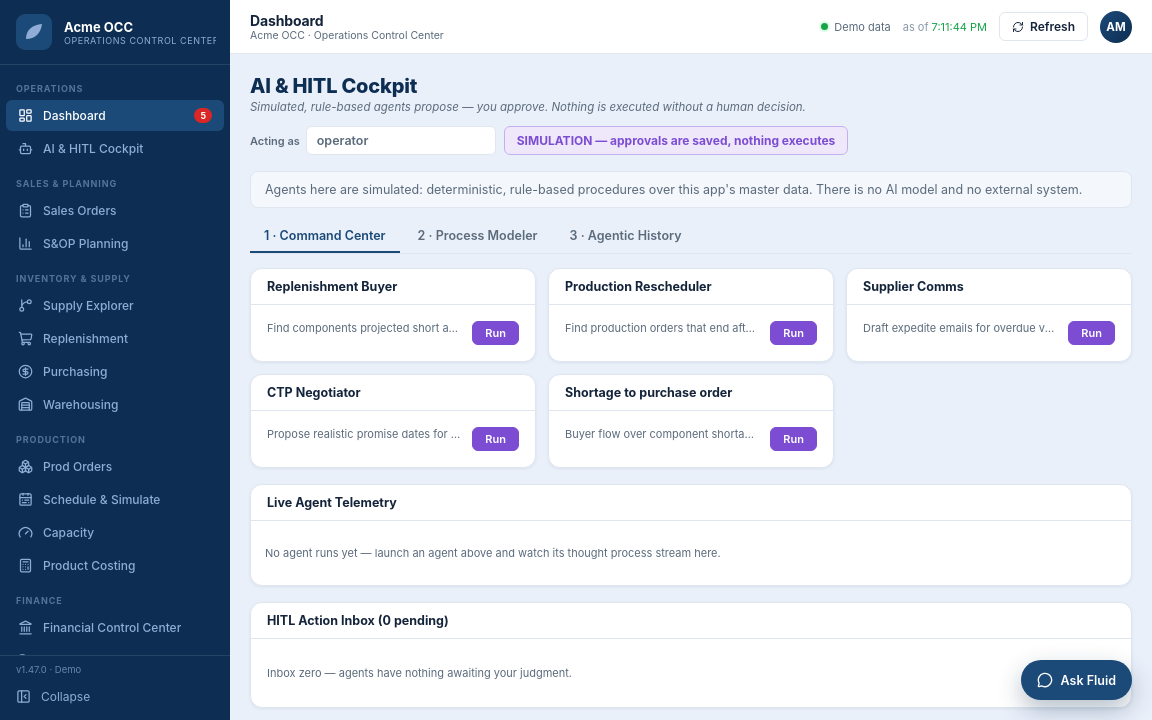
Test: AI cockpit page › toggles simulation mode through the API
The width and height of the screenshot is (1152, 720).
Expected: the heading "AI & HITL Cockpit" is shown, 250,74 -> 417,98
Expected: the heading "Replenishment Buyer" is shown, 267,279 -> 397,294
Click the button "SIMULATION — approvals are saved, nothing executes" at (676, 140), box 504,126 -> 848,155
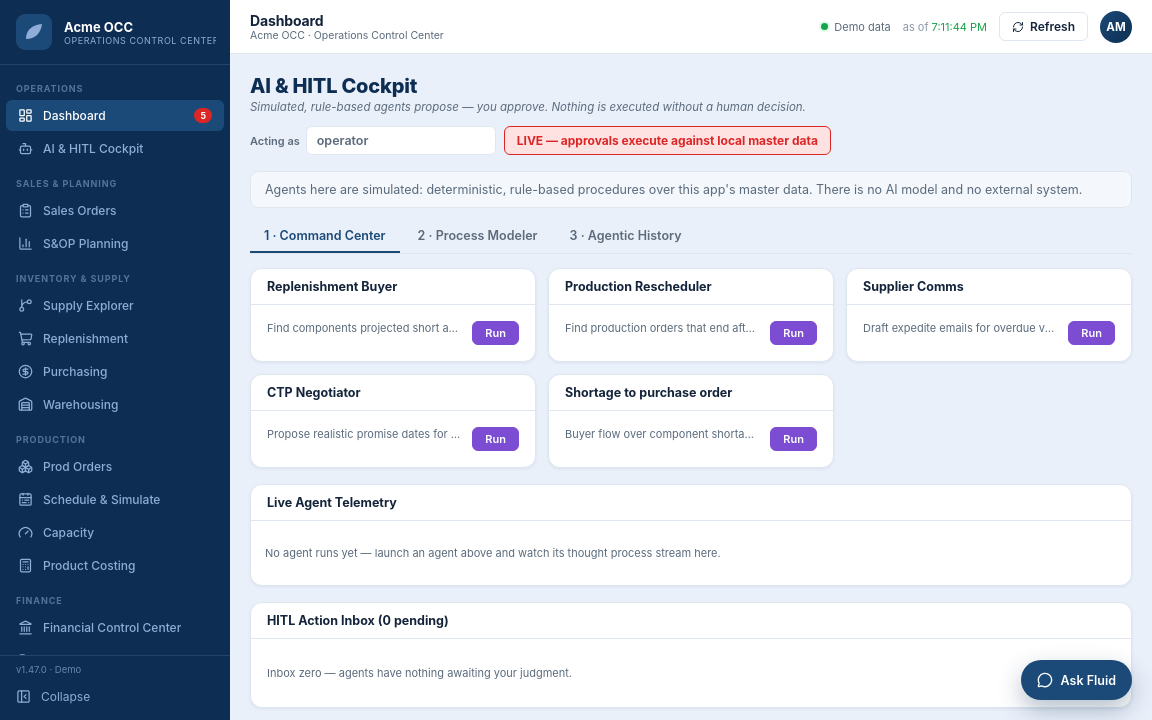
Now the button "LIVE — approvals execute against local master data" is shown, box 504,126 -> 831,155
